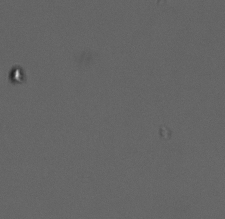Living Cell: (9, 66, 28, 83)
